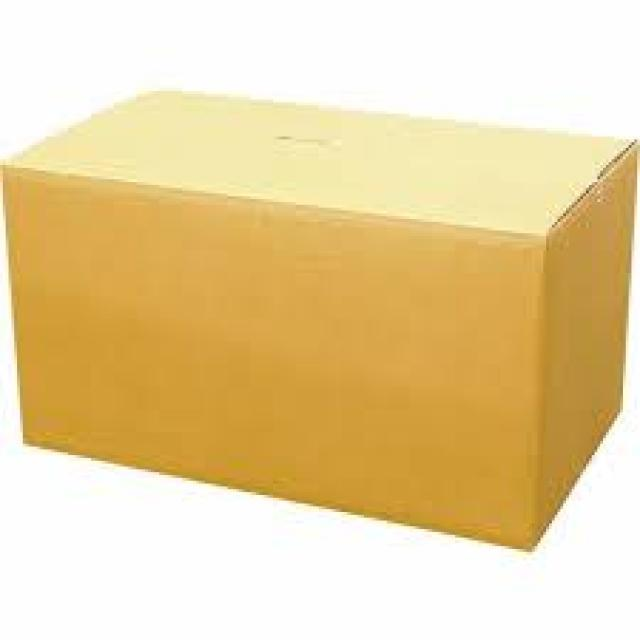Cardboard: (1, 92, 639, 546)
